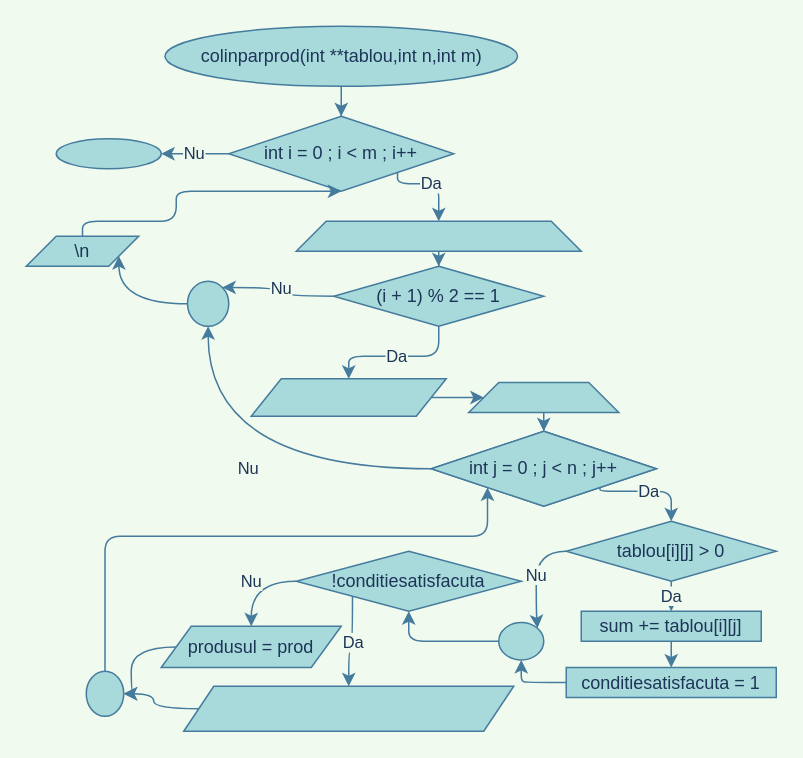
Image size: 803x758. Some labels were removed from this diagram. Here are the shapes that lost their labels. From the top down, the box of each, then its label:
(55, 137, 161, 169): stop
(295, 220, 581, 251): int conditienesatisfacuta = 0
(250, 377, 446, 416): coloana impara i+1
(467, 381, 619, 412): int prod= 1
(182, 685, 514, 731): nici un element mai mare ca 0
